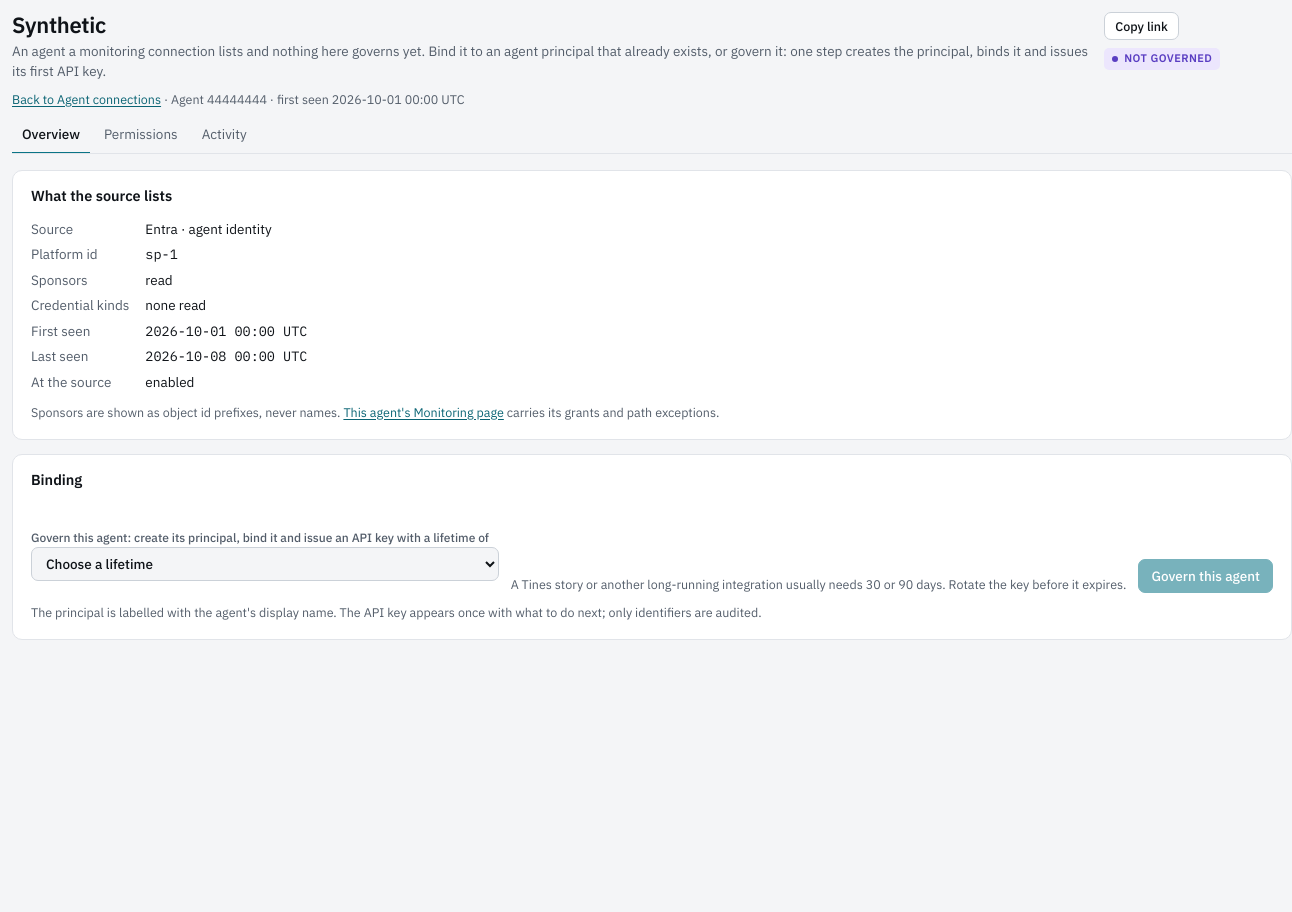
Test: choosing a key's lifetime (AK1) › starts Govern this agent at Choose a lifetime
expect the button "Govern this agent" is disabled: met, box [1138,559,1273,593]
Select "30 days" in the dropdown labelled "Govern this agent: create its principal": (265, 564) [31,547,499,581]
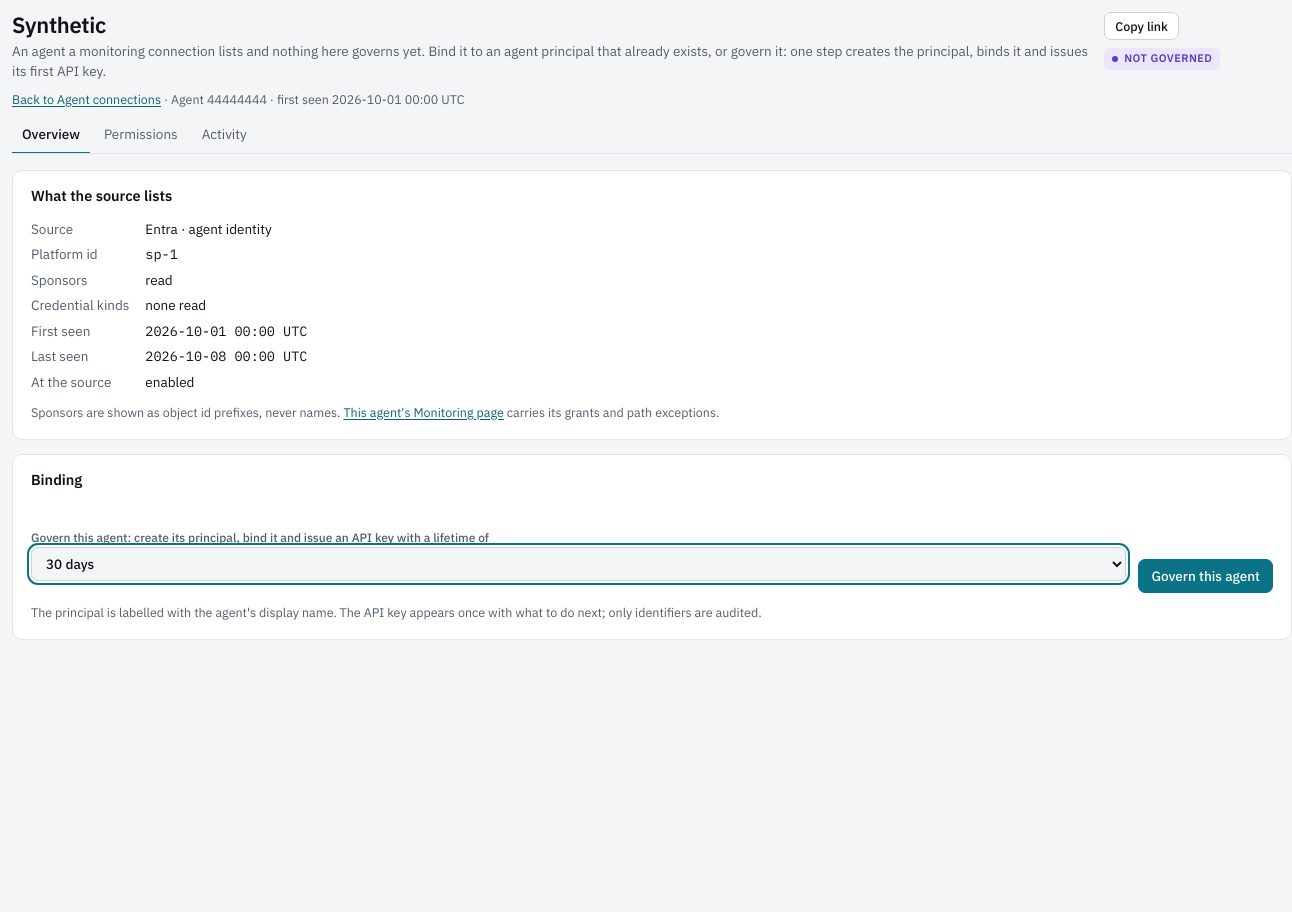
expect the button "Govern this agent" is enabled: met, box [1138,559,1273,593]
